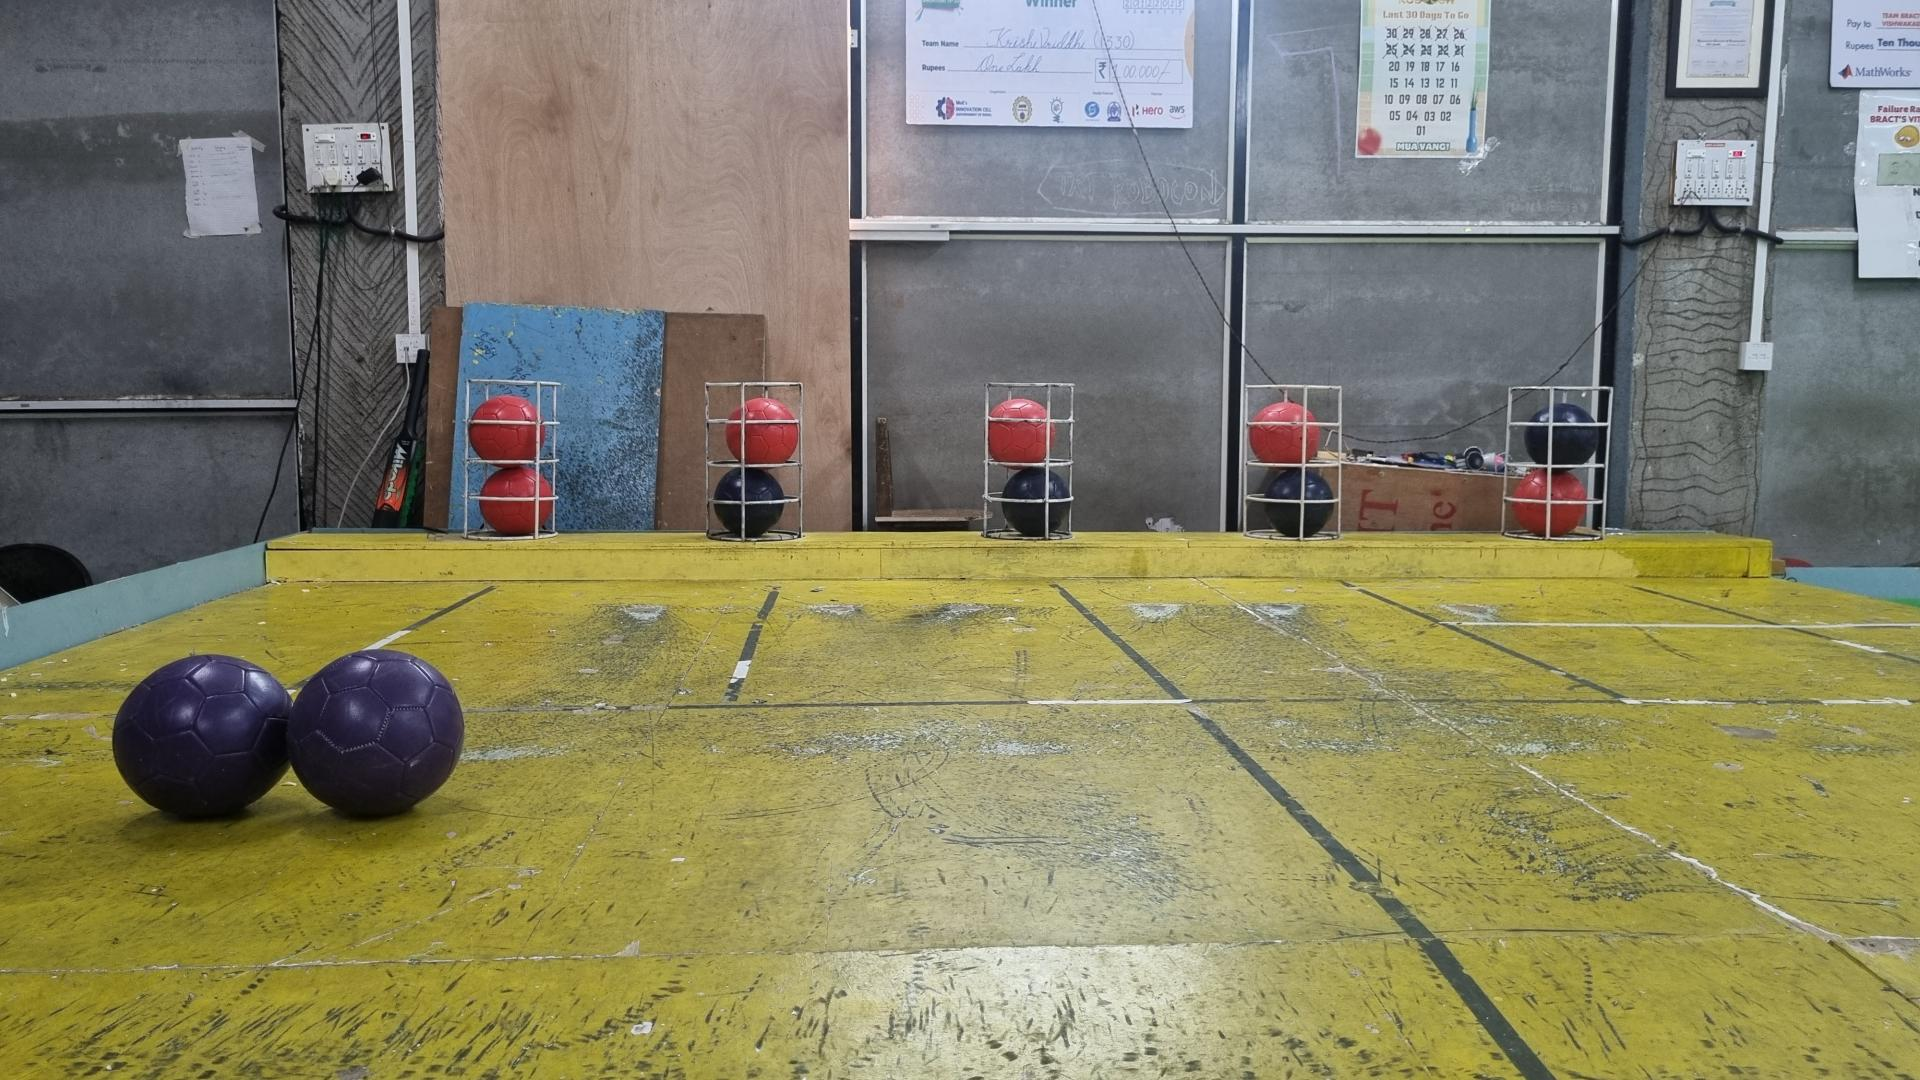dhoka: (712, 468, 787, 539), (1263, 468, 1335, 535), (1001, 468, 1068, 535), (1526, 405, 1601, 464)
laale: (480, 464, 555, 535), (468, 393, 543, 460), (1511, 468, 1586, 535), (728, 397, 799, 464), (986, 397, 1054, 464), (1249, 401, 1320, 464)
